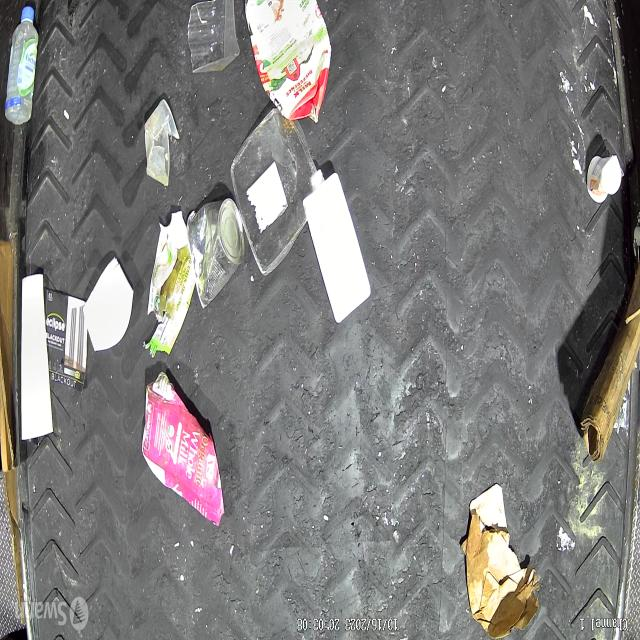can: (186, 199, 245, 310)
milk_jug: (300, 165, 372, 322)
non_white_jug: (242, 0, 330, 130)
plastic_bottle: (4, 5, 39, 127)
